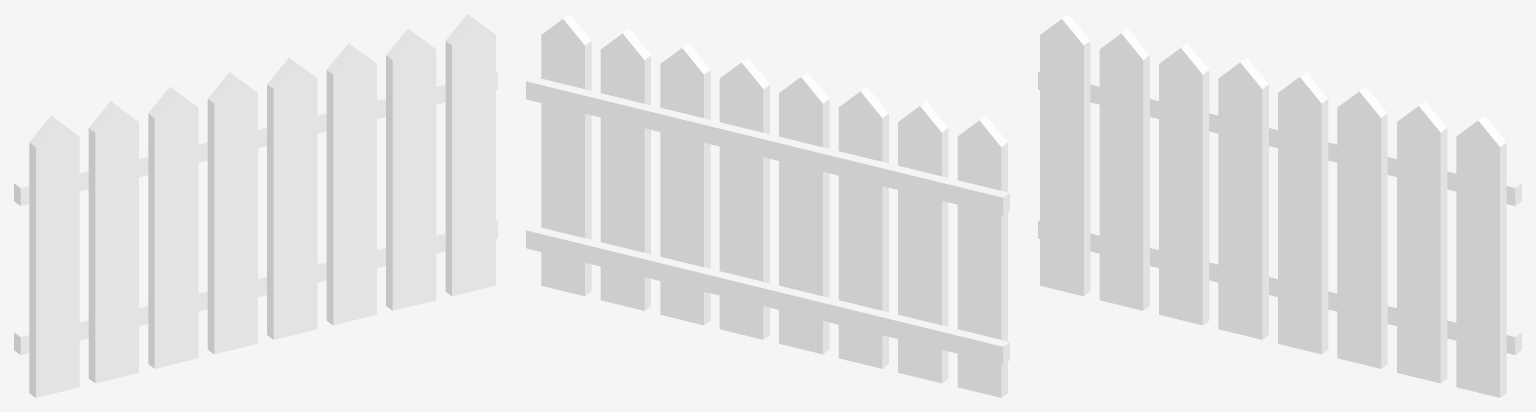
File: fence-picket.glb
The picture shows the model from 3 angles, left to right: view 1: azimuth 30°, elevation 25°; view 2: azimuth 150°, elevation 25°; view 3: azimuth 330°, elevation 25°; orthographic projection.
Visible parts, largest first — view 1: fence-picket; view 2: fence-picket; view 3: fence-picket.
Part boxes in pixels (x1=…): fence-picket: x1=14, y1=14, x2=497, y2=397; fence-picket: x1=526, y1=14, x2=1009, y2=397; fence-picket: x1=1038, y1=14, x2=1521, y2=397.
Bounding box in the file's own units: 2 × 1.09 × 0.096.
1 material, 1 textured.
